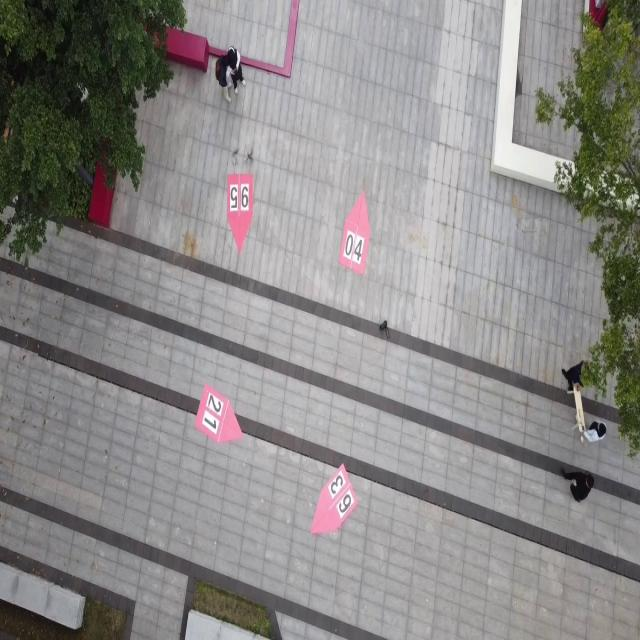-sign-: (213, 156, 271, 259), (304, 466, 362, 544), (195, 374, 248, 454), (336, 189, 382, 277)
